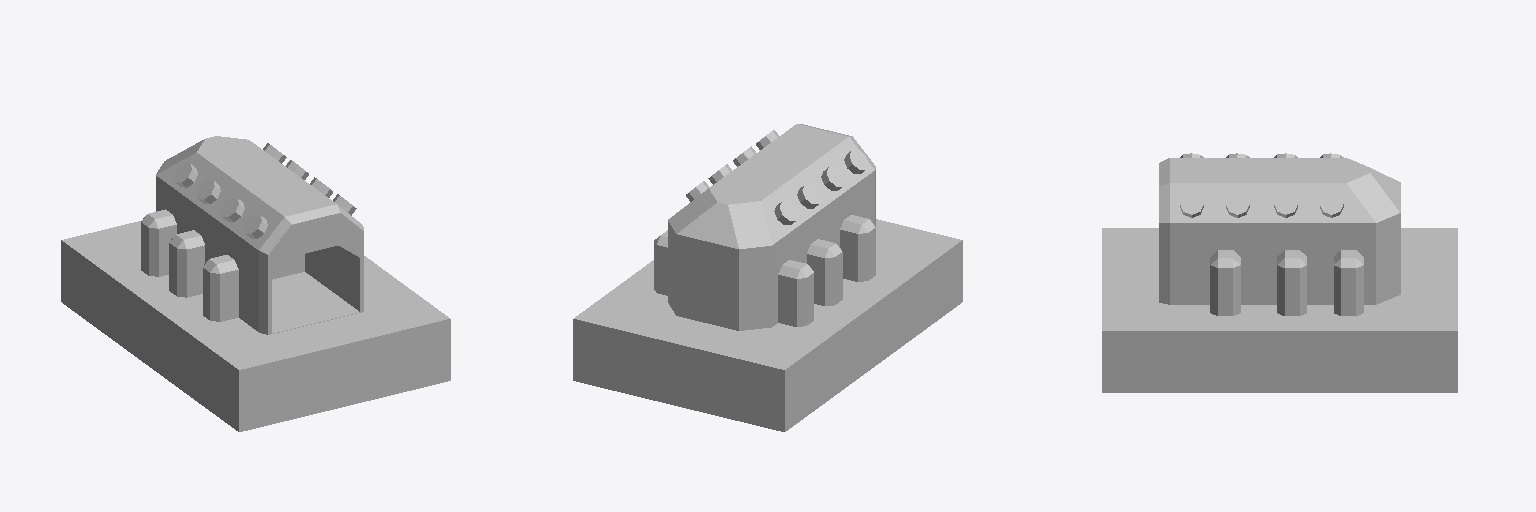
Rendered from CryptBarracksFinale1.obj.
3 renders of one model, left to right at view 1: azimuth 30°, elevation 25°; view 2: azimuth 150°, elevation 25°; view 3: azimuth 270°, elevation 25°, orthographic.
Visible parts, largest first — view 1: pCylinder16; view 2: pCylinder16; view 3: pCylinder16.
Boxes of the visible parts, <box> form: pCylinder16: <box>61,136,450,431</box>; pCylinder16: <box>573,124,962,431</box>; pCylinder16: <box>1102,153,1457,392</box>.
Size of the model in its own units: 8.1 by 6.27 by 11.8.